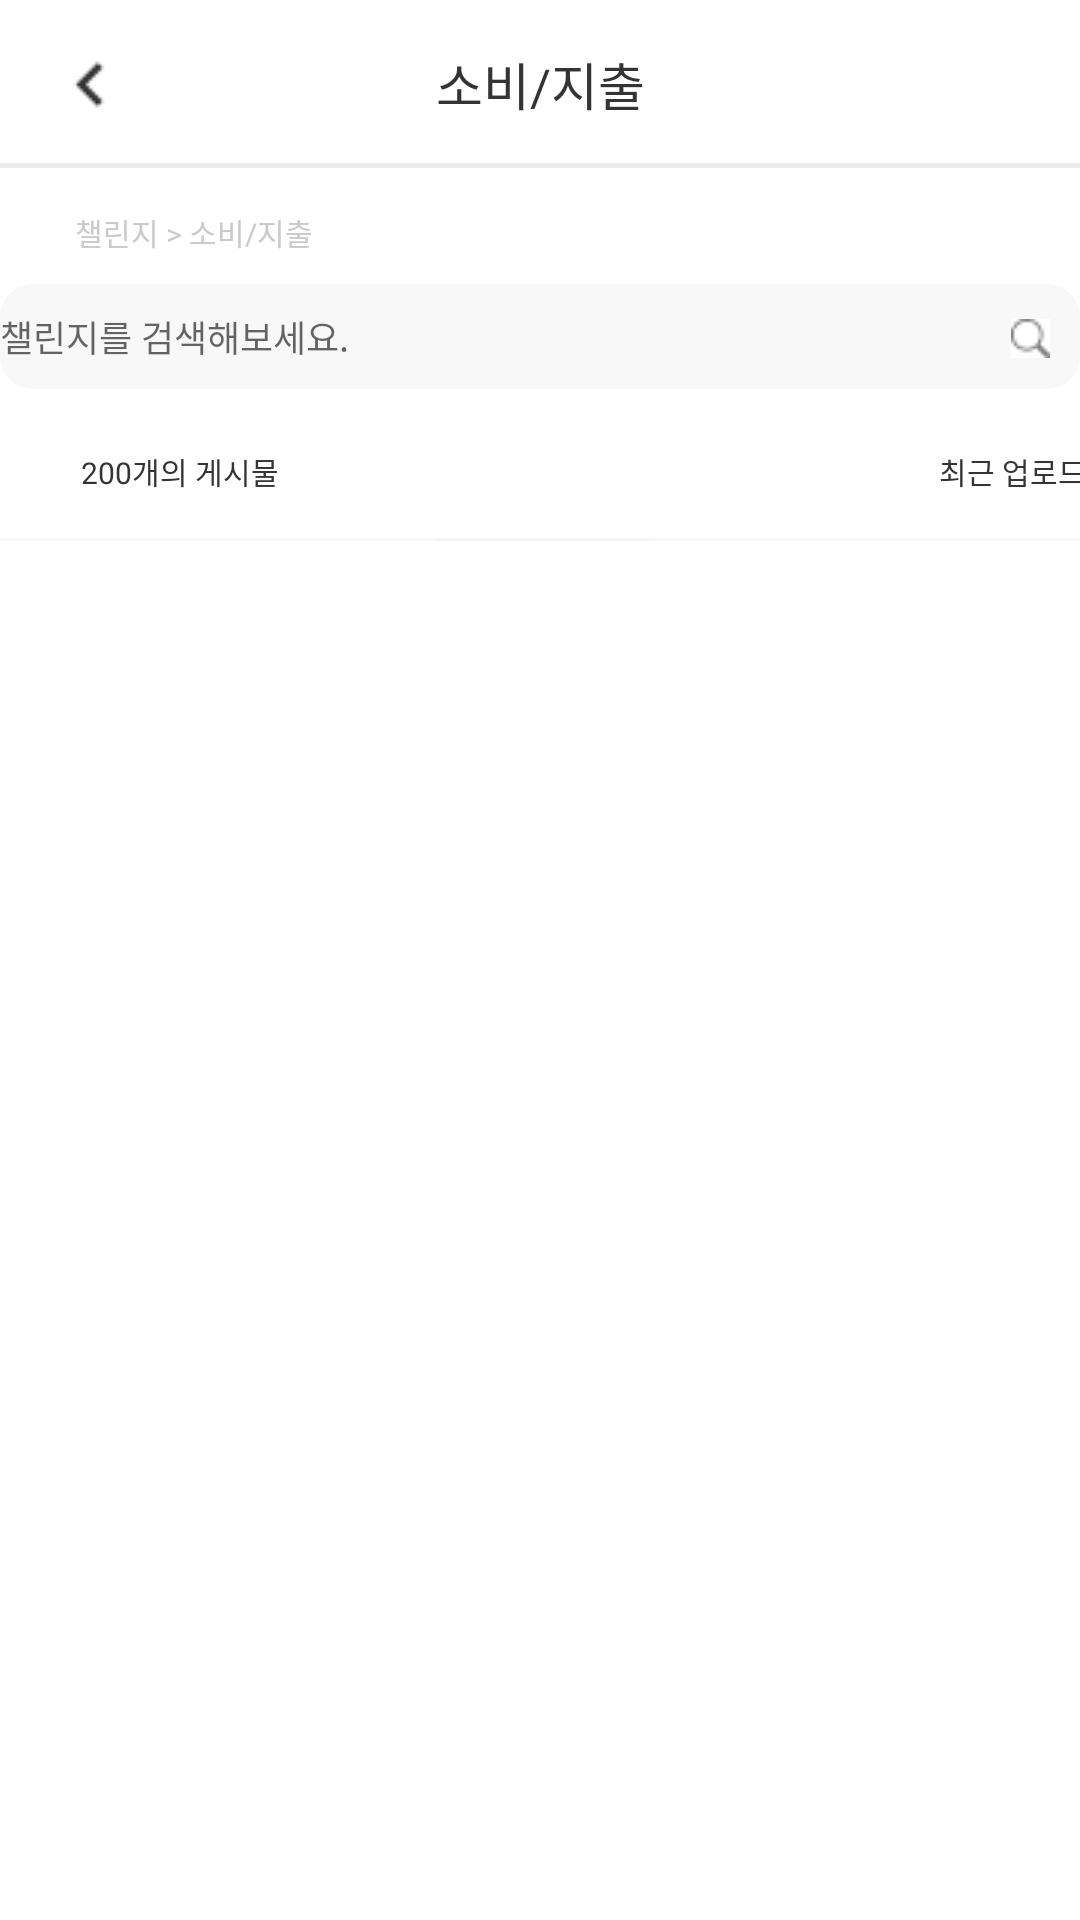

Screen size 1080 x 1920. Icon name, then its box in pixels as (x1, y1, x2, y2):
back: (75, 61, 104, 108)
search: (1011, 319, 1050, 358)
